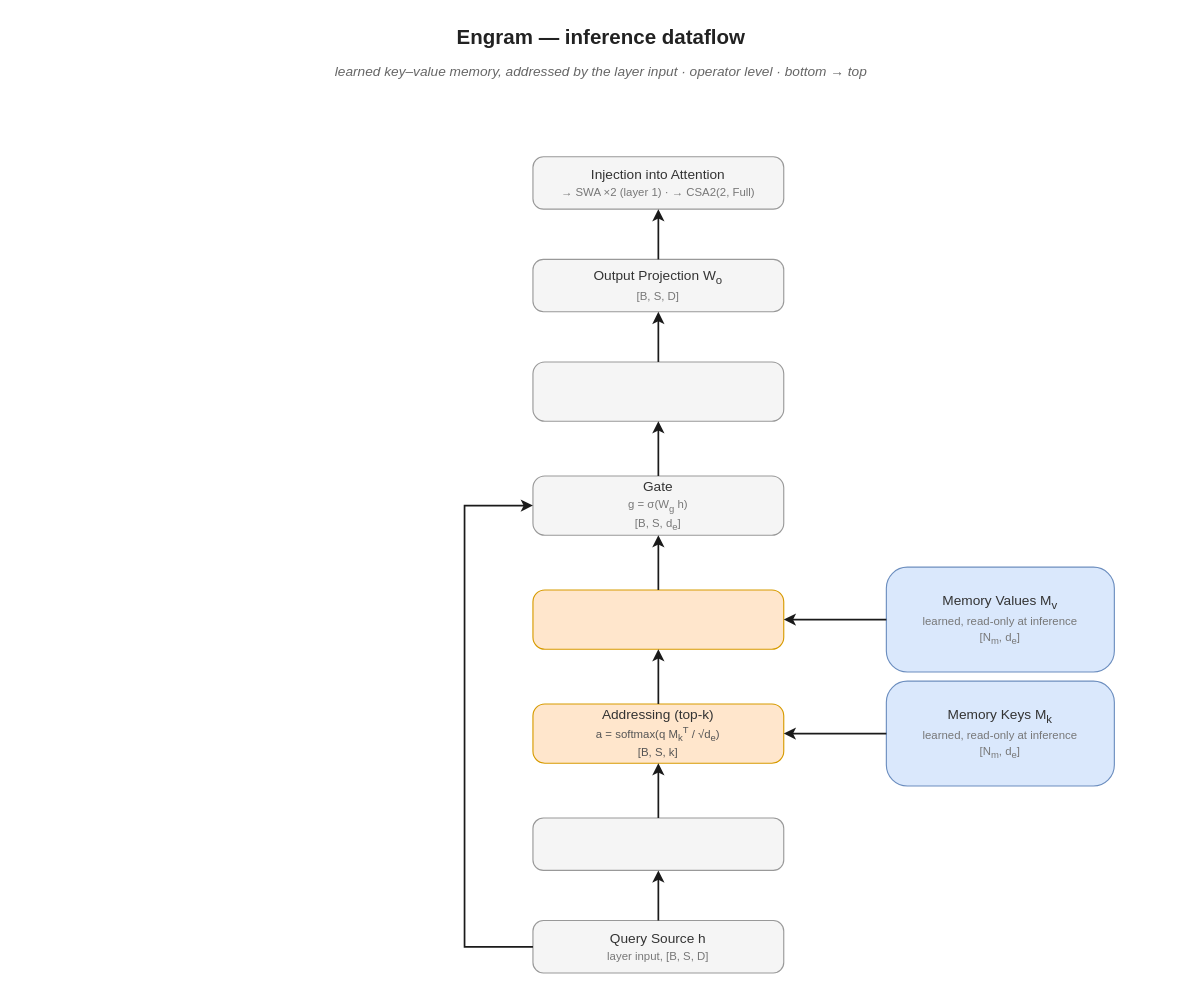
The diagram is 1202 pixels wide and 993 high, and some of its shapes have lost their labels. The box of each missing label's shape, as (x1, y1, x2, y2) in pixels:
Gated Merge r' = g ⊙ r [B, S, d e ]: (532, 361, 784, 421)
Query Projection W q [B, S, d e ]: (532, 817, 784, 870)
Retrieval r = a M v (gather + weighted sum) [B, S, d e ]: (532, 589, 784, 649)
